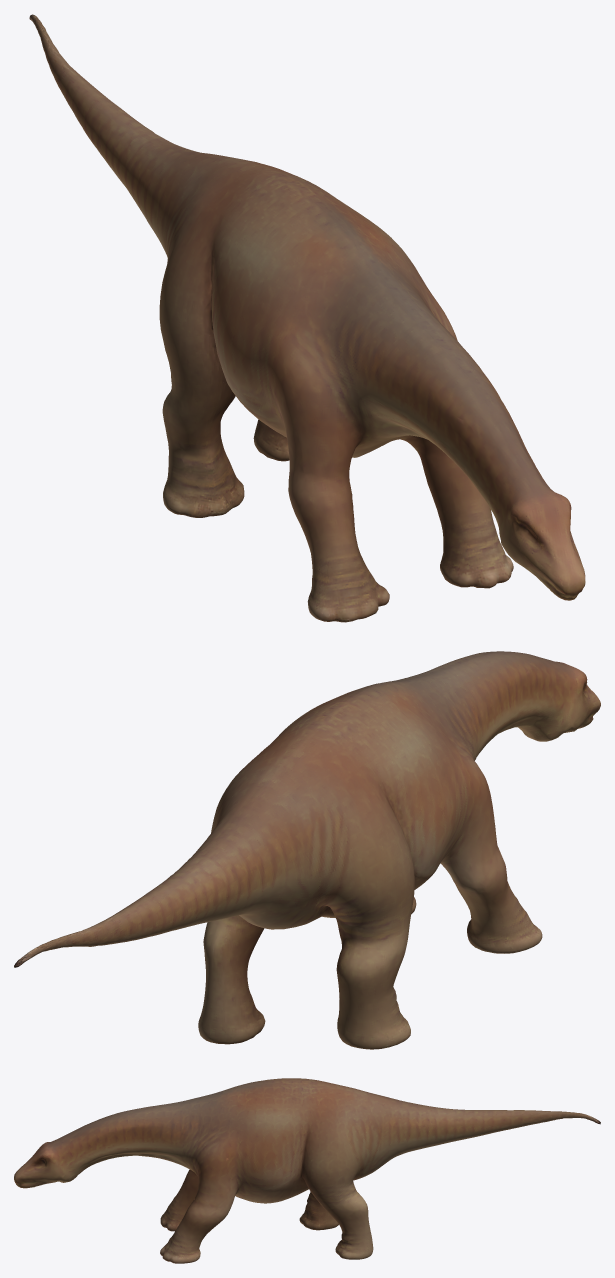
3 renders of one model, top to bottom at view 1: azimuth 30°, elevation 25°; view 2: azimuth 150°, elevation 25°; view 3: azimuth 270°, elevation 25°, orthographic. The views are drawn at different scales.
Visible parts, largest first — view 1: world; view 2: world; view 3: world.
Boxes of the visible parts, <box> form: world: <box>29,14,585,622</box>; world: <box>14,651,600,1049</box>; world: <box>14,1078,600,1263</box>.
Size of the model in its own units: 3.38 by 5.13 by 17.
Materials: 1 (1 with a texture image).
